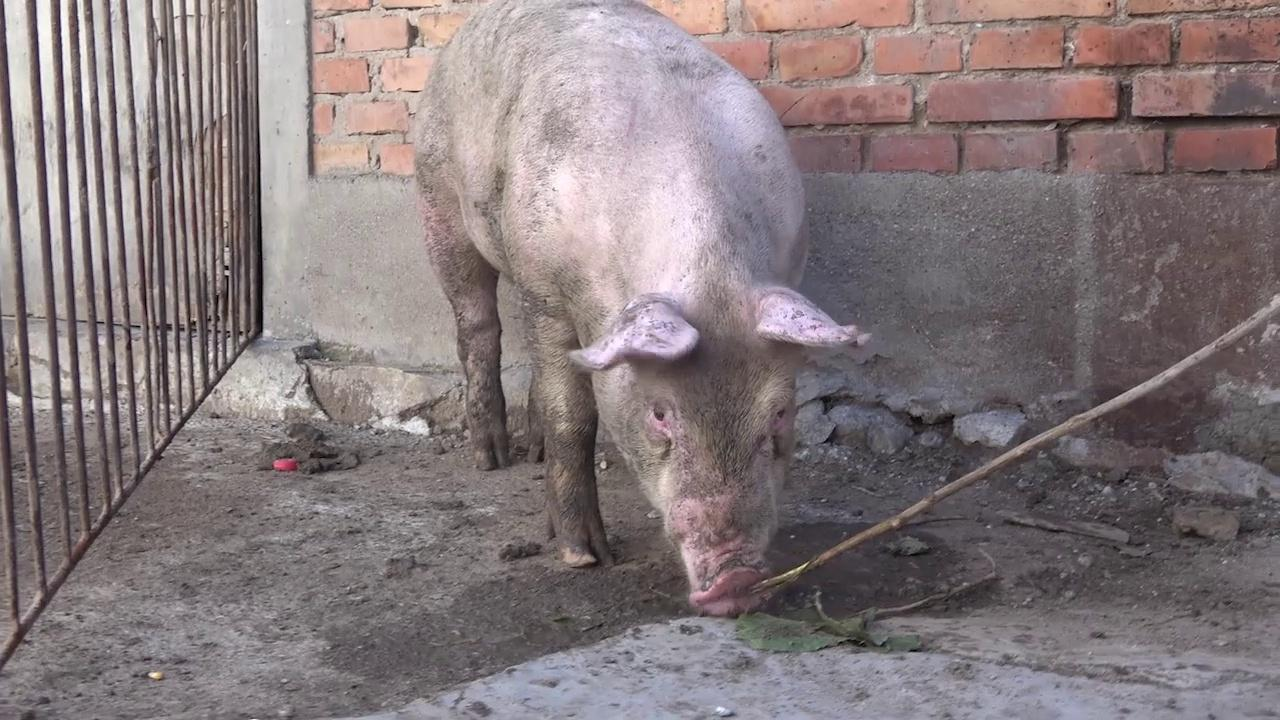Face: (555, 279, 882, 624)
